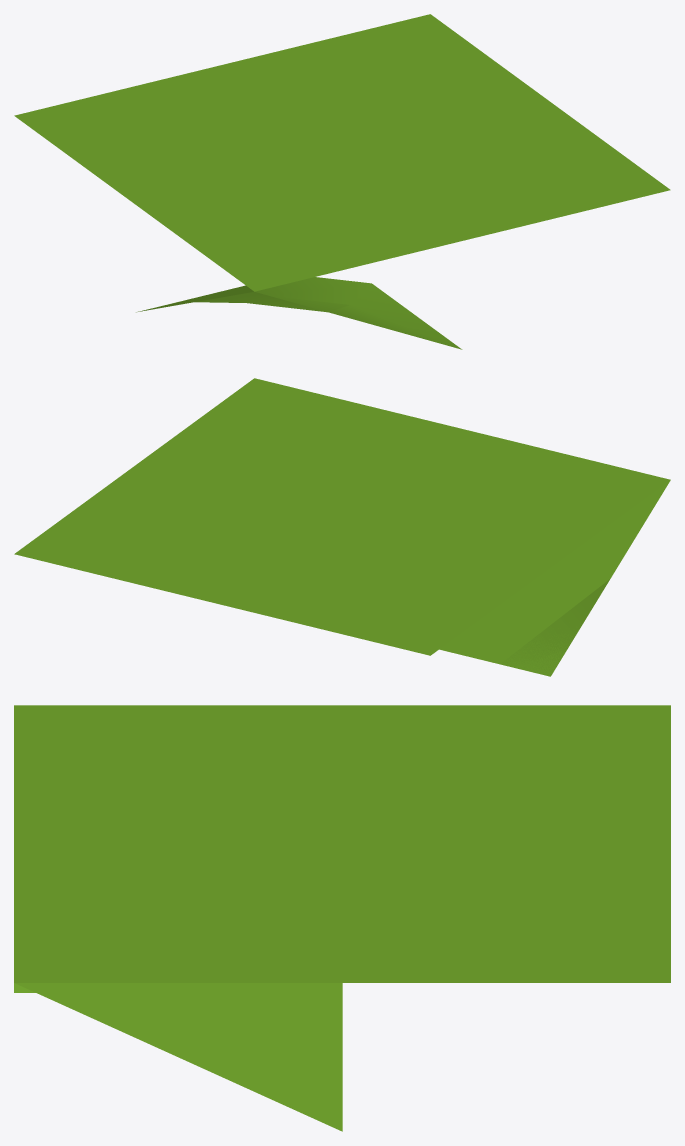
File: wfc_modules.glb
The picture shows the model from 3 angles, top to bottom: view 1: azimuth 30°, elevation 25°; view 2: azimuth 150°, elevation 25°; view 3: azimuth 270°, elevation 25°; orthographic projection. The views are drawn at different scales.
Visible parts, largest first — view 1: wfc_module_0, wfc_module_2, wfc_module_1; view 2: wfc_module_0, wfc_module_1, wfc_module_2; view 3: wfc_module_0, wfc_module_1.
Part boxes in pixels (left/top/right/bottom): wfc_module_0: left=14, top=14, right=670, bottom=291; wfc_module_2: left=143, top=277, right=462, bottom=349; wfc_module_1: left=136, top=285, right=253, bottom=312; wfc_module_0: left=14, top=378, right=670, bottom=655; wfc_module_1: left=439, top=480, right=670, bottom=676; wfc_module_2: left=500, top=579, right=609, bottom=676; wfc_module_0: left=14, top=705, right=670, bottom=982; wfc_module_1: left=15, top=983, right=342, bottom=1131.
Size of the model in its own units: 1 by 0.25 by 1.
